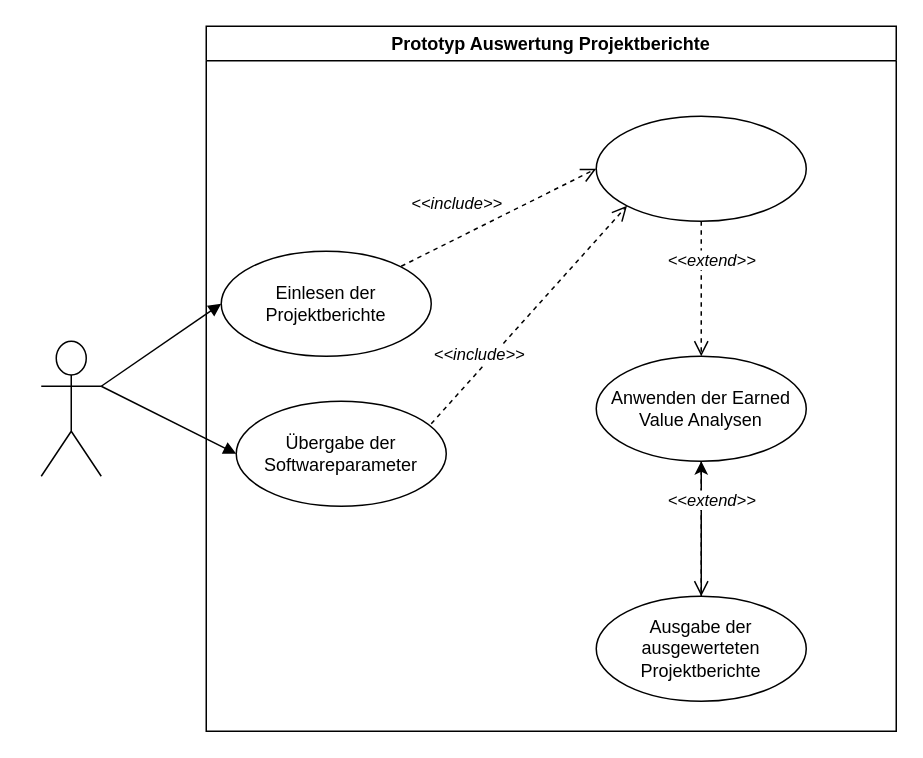
This 923x758 diagram has some shape labels left out. Here are the shapes that lost their labels. From the top down, the box of each, then its label:
(595, 115, 806, 221): Formatieren der eingelesenen Daten
(40, 340, 101, 476): Benutzer:in
